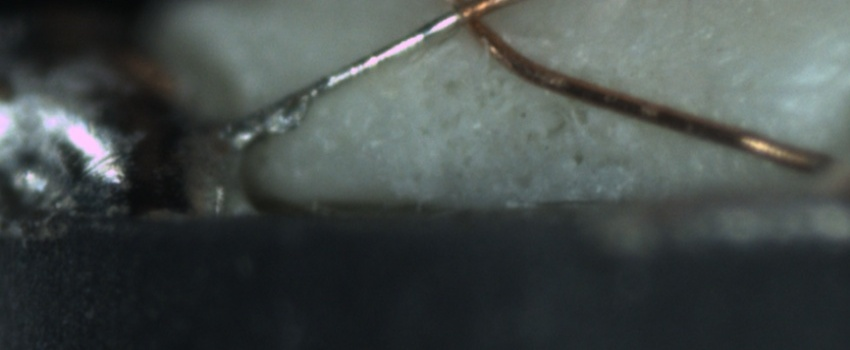CL: (429, 2, 507, 45)
TB: (231, 89, 312, 143)
TS: (243, 13, 461, 140)
TTCW: (209, 1, 509, 159)
